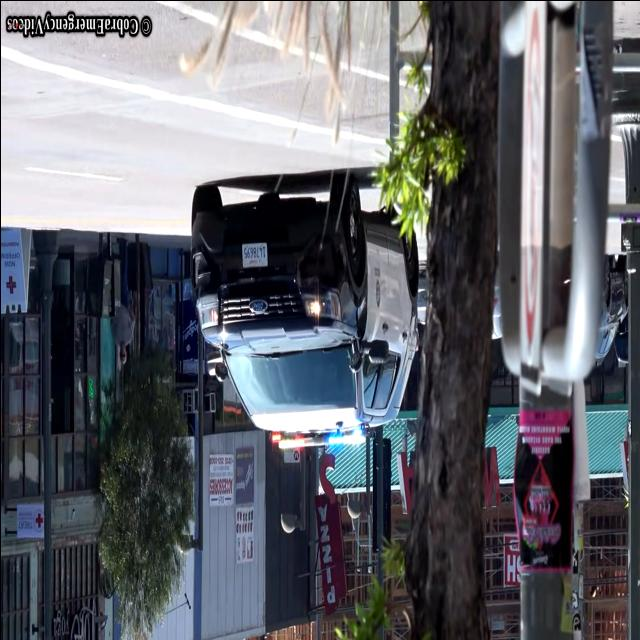emergency-vehicles: (167, 158, 453, 466)
